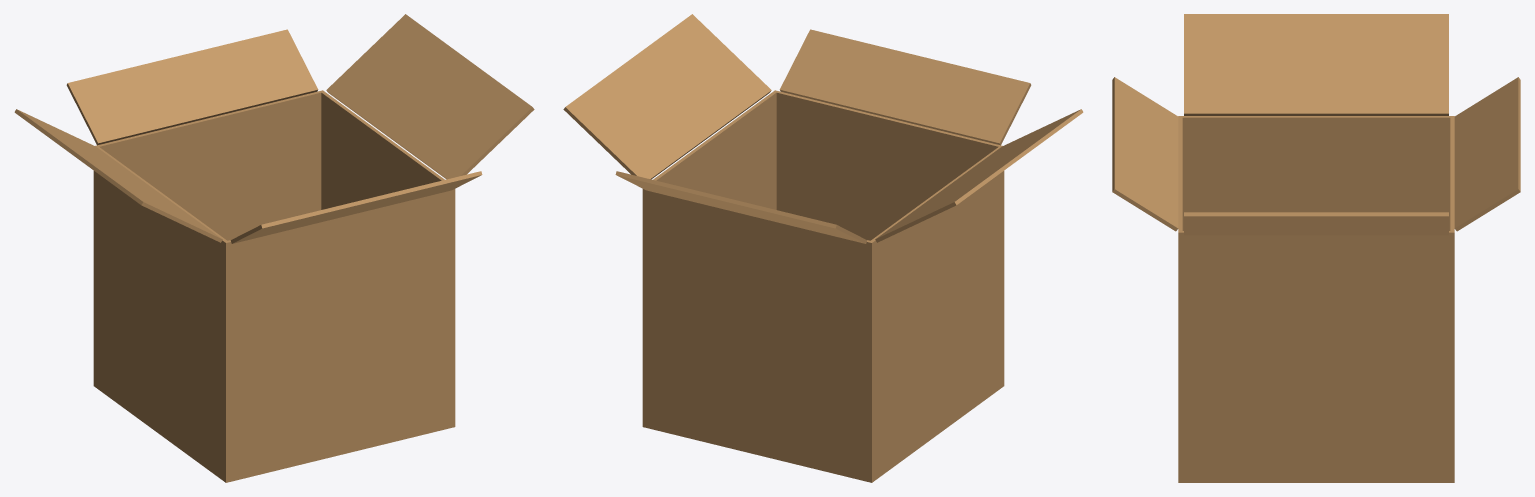
Rendered from sm_box_xl_open.glb.
3 views of the same model, side by side, from view 1: azimuth 30°, elevation 25°; view 2: azimuth 150°, elevation 25°; view 3: azimuth 270°, elevation 25° (orthographic). The views are drawn at different scales.
Visible parts, largest first — view 1: box_xl_open_wall_y, box_xl_open_wall_x, box_xl_open_wall_y.001, box_xl_open_flap_x.001, box_xl_open_flap_y.001, box_xl_open_wall_x.001, box_xl_open_flap_x, box_xl_open_flap_y, box_xl_open_floor; view 2: box_xl_open_wall_y.001, box_xl_open_wall_x, box_xl_open_wall_y, box_xl_open_flap_x.001, box_xl_open_flap_y, box_xl_open_wall_x.001, box_xl_open_flap_x, box_xl_open_flap_y.001, box_xl_open_floor; view 3: box_xl_open_wall_x.001, box_xl_open_flap_x, box_xl_open_wall_x, box_xl_open_flap_y, box_xl_open_flap_y.001, box_xl_open_flap_x.001, box_xl_open_wall_y.001, box_xl_open_wall_y, box_xl_open_floor.
Boxes of the visible parts, x1,y1,x2,y2 form: box_xl_open_wall_y: (224, 190, 455, 480); box_xl_open_wall_x: (93, 145, 229, 480); box_xl_open_wall_y.001: (93, 90, 323, 385); box_xl_open_flap_x.001: (326, 14, 534, 179); box_xl_open_flap_y.001: (66, 29, 318, 145); box_xl_open_wall_x.001: (320, 90, 455, 426); box_xl_open_flap_x: (14, 109, 222, 242); box_xl_open_flap_y: (230, 171, 482, 243); box_xl_open_floor: (94, 383, 455, 482); box_xl_open_wall_y.001: (644, 190, 873, 478); box_xl_open_wall_x: (868, 145, 1004, 479); box_xl_open_wall_y: (773, 90, 1004, 386); box_xl_open_flap_x.001: (563, 14, 771, 179); box_xl_open_flap_y: (779, 29, 1031, 145); box_xl_open_wall_x.001: (642, 90, 777, 427); box_xl_open_flap_x: (875, 109, 1083, 242); box_xl_open_flap_y.001: (615, 171, 867, 243); box_xl_open_floor: (642, 384, 1003, 482); box_xl_open_wall_x.001: (1178, 231, 1454, 481); box_xl_open_flap_x: (1184, 14, 1448, 115); box_xl_open_wall_x: (1178, 116, 1454, 230); box_xl_open_flap_y: (1112, 77, 1178, 231); box_xl_open_flap_y.001: (1454, 77, 1520, 231); box_xl_open_flap_x.001: (1184, 212, 1448, 235); box_xl_open_wall_y.001: (1450, 117, 1454, 482); box_xl_open_wall_y: (1178, 117, 1182, 482); box_xl_open_floor: (1178, 479, 1454, 482).
Size of what is drawn, in the model's own units: 1.37 by 0.9958 by 1.18.
